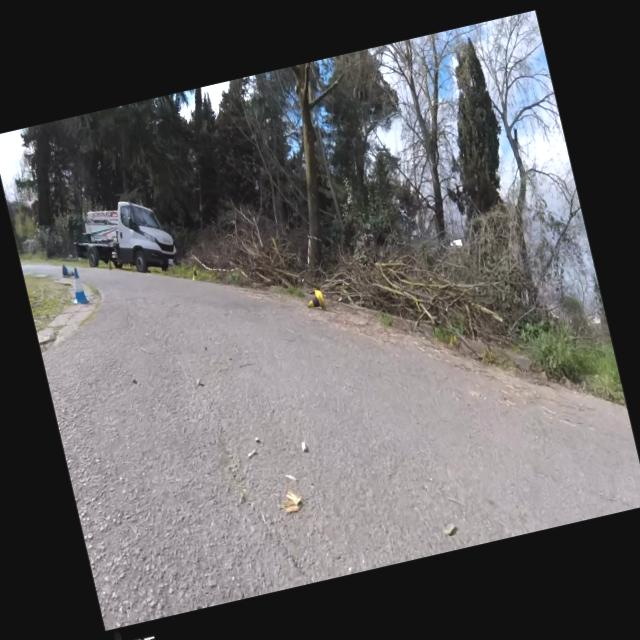blue_cone: (66, 266, 90, 305), (60, 262, 74, 277)
yellow_cone: (304, 288, 326, 312), (189, 265, 198, 280)
